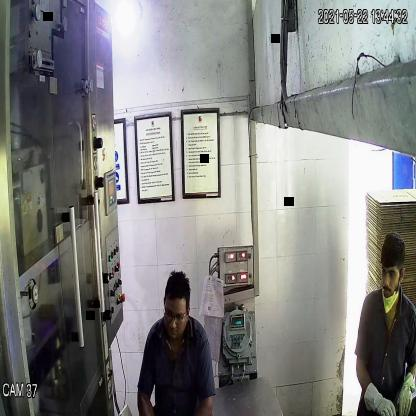goggles: (161, 303, 190, 328)
no_goggles: (380, 264, 402, 282)
